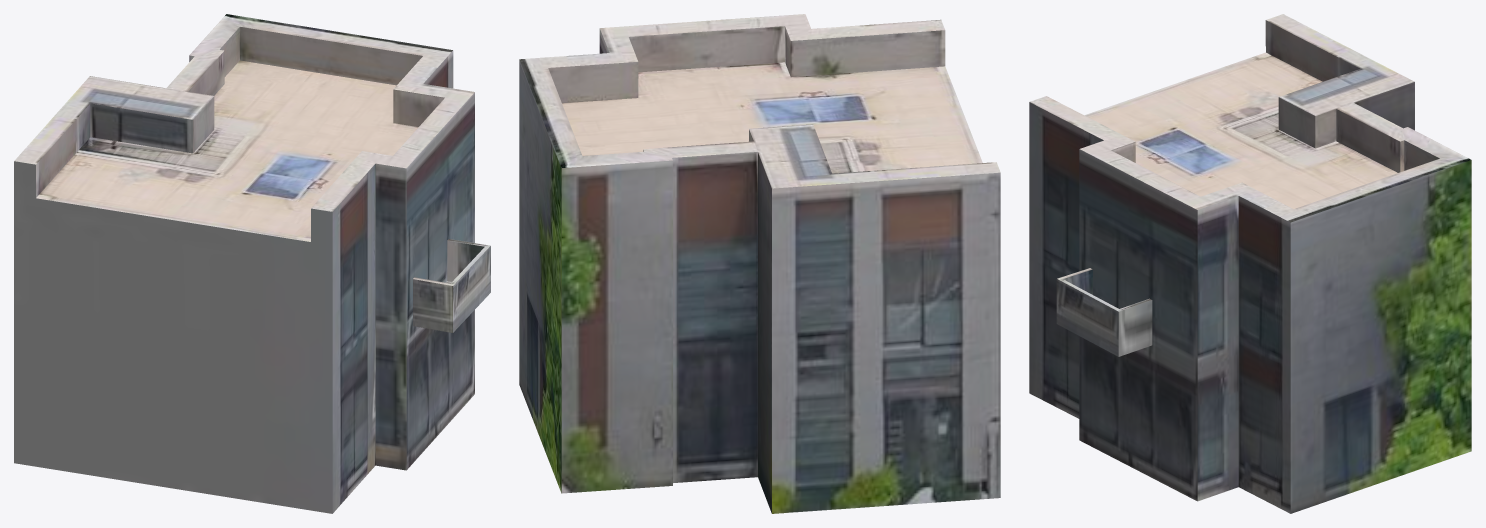
3 views of the same model, side by side, from view 1: azimuth 30°, elevation 25°; view 2: azimuth 150°, elevation 25°; view 3: azimuth 270°, elevation 25° (orthographic). The views are drawn at different scales.
Parts seen in each view (by area): view 1: B287144036001062A0; view 2: B287144036001062A0; view 3: B287144036001062A0.
Boxes of the visible parts, x1,y1,x2,y2 form: B287144036001062A0: (14,14,490,513); B287144036001062A0: (519,14,1000,513); B287144036001062A0: (1029,14,1471,513).
Size of the model in its own units: 13.87 by 9.04 by 12.43.
1 material, 1 textured.
